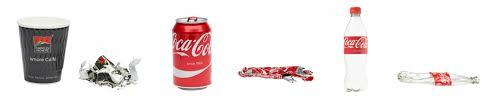Aluminum can: (165, 9, 218, 95), (235, 53, 321, 91)
Paper cups: (10, 9, 73, 91)
Paper shavings: (78, 41, 148, 93)
Plastic bottle: (393, 53, 488, 96), (336, 5, 376, 99)
